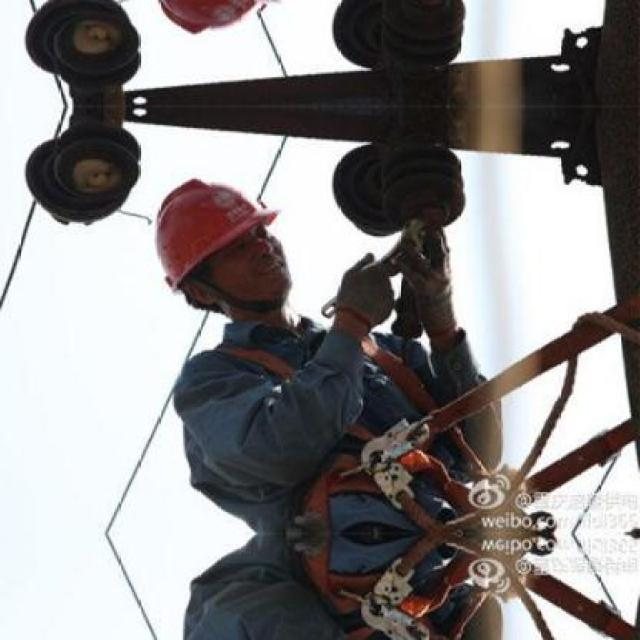helmet: (136, 164, 296, 325), (135, 0, 296, 49)
